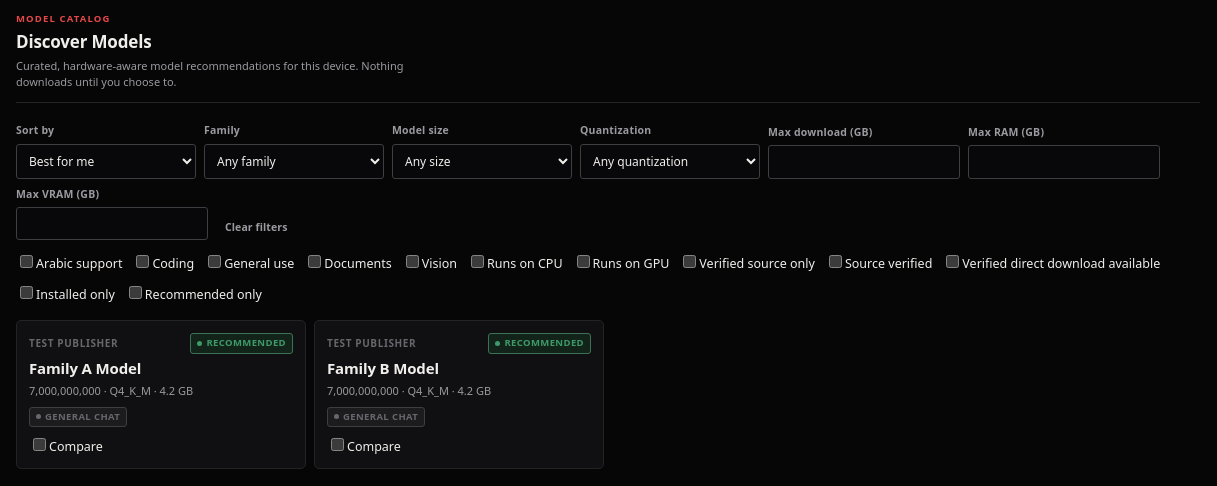
Test: Discover page — recommendation-engine-v2 integration (Stage B.6) › the family filter narrows the grid to one family
The image size is (1217, 486).
Expected: the text "Family A Model" is shown, left=29, top=358, right=141, bottom=378
Select "family-a" in the dropdown labelled "Family" at [294, 161], box left=204, top=144, right=384, bottom=178
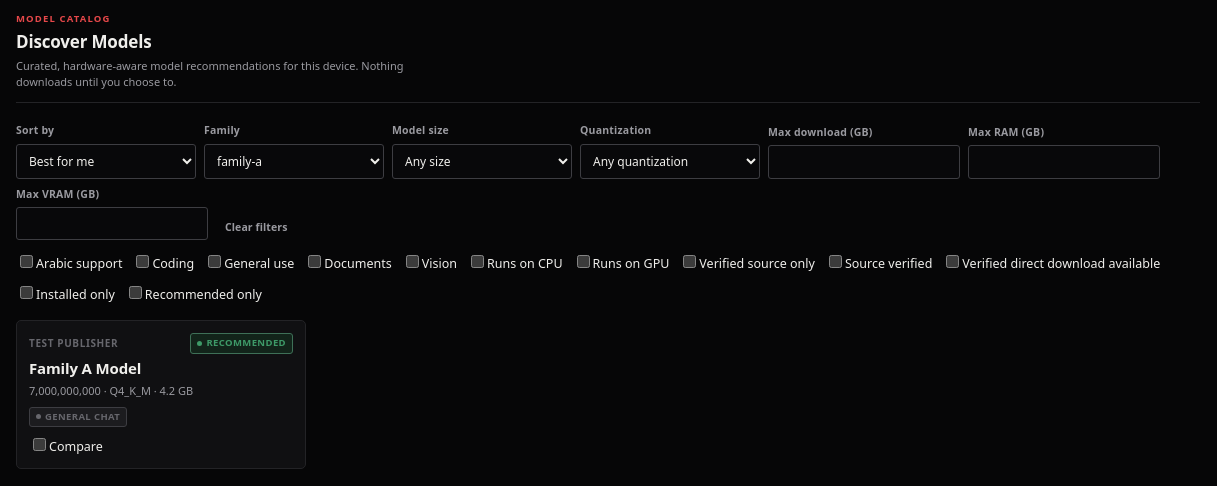
Expected: the text "Family A Model" is shown, left=29, top=358, right=141, bottom=378
Expected: the button "Family B Model" is gone
